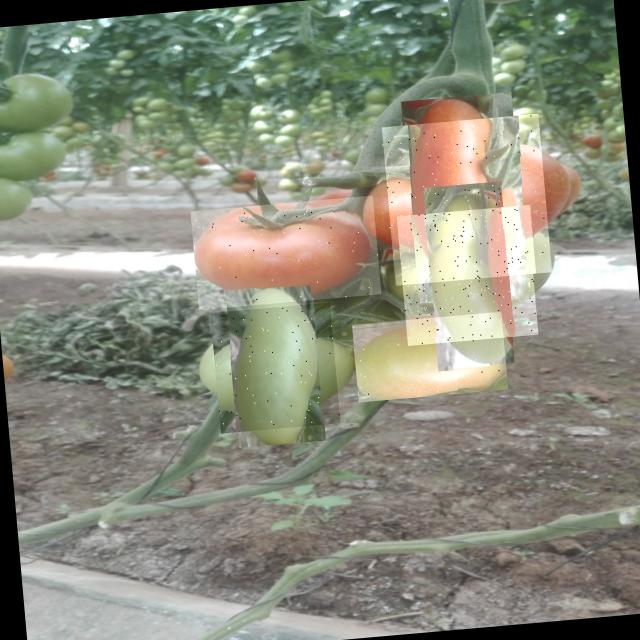Ripe Tomato: (378, 114, 551, 286), (190, 195, 381, 310)
Unripe Tomato: (396, 204, 538, 346), (210, 302, 340, 433), (352, 311, 508, 402)
